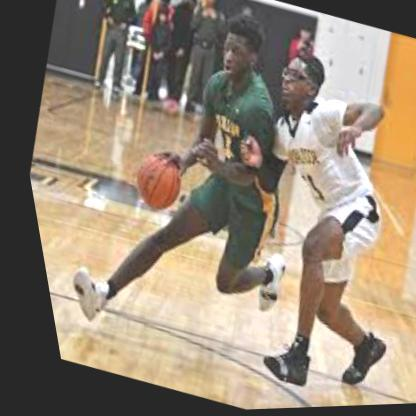basketball: (118, 145, 188, 218)
